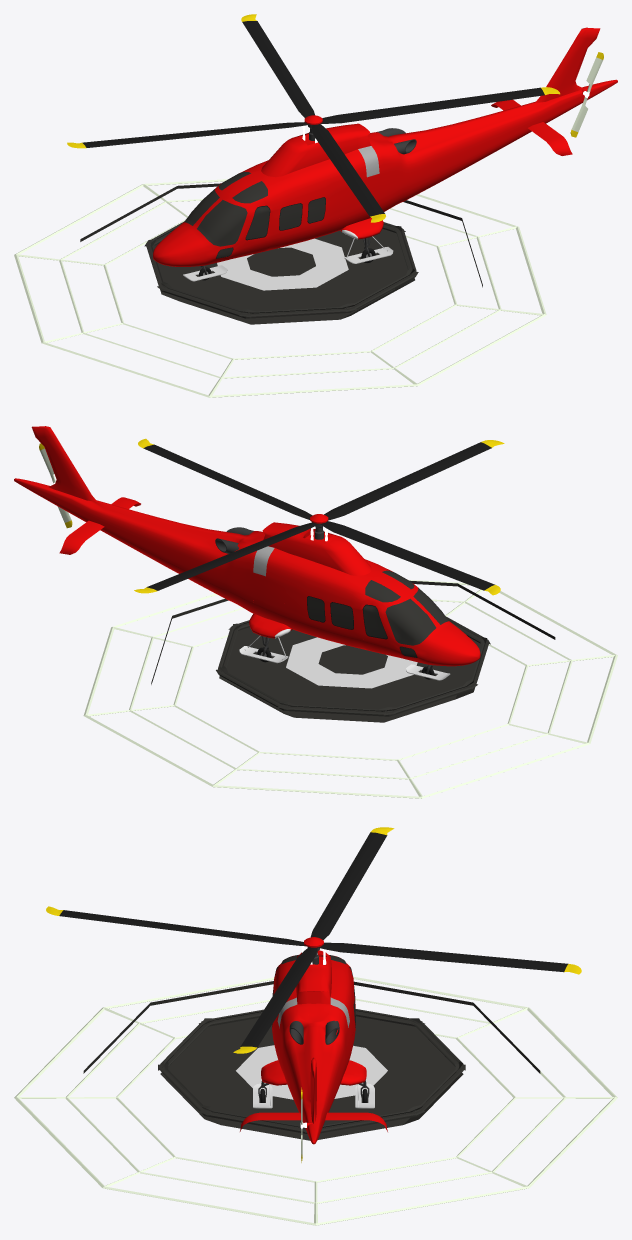
Rendered from helicopter.gltf.
The picture shows the model from 3 angles, top to bottom: view 1: azimuth 30°, elevation 25°; view 2: azimuth 150°, elevation 25°; view 3: azimuth 270°, elevation 25°; orthographic projection. The views are drawn at different scales.
Visible parts, largest first — view 1: Cube, Cylinder.005, Cylinder.006, Cylinder.003, Cube.001, Cylinder.002, Cube.004; view 2: Cube, Cylinder.005, Cylinder.006, Cylinder.003, Cube.001, Cube.004; view 3: Cylinder.005, Cube, Cylinder.006, Cylinder.003, Cube.001, Cube.004, Cube.007, Cylinder.
Boxes of the visible parts, x1,y1,x2,y2 form: Cube: [153, 27, 617, 266]; Cylinder.005: [80, 183, 482, 324]; Cylinder.006: [14, 179, 546, 397]; Cylinder.003: [67, 14, 560, 222]; Cube.001: [491, 99, 572, 155]; Cylinder.002: [570, 52, 603, 137]; Cube.004: [340, 218, 383, 239]; Cube: [14, 426, 480, 666]; Cylinder.005: [151, 580, 555, 722]; Cylinder.006: [83, 579, 617, 798]; Cylinder.003: [134, 438, 504, 595]; Cube.001: [59, 497, 140, 554]; Cube.004: [249, 613, 292, 638]; Cylinder.005: [83, 981, 540, 1140]; Cube: [272, 950, 355, 1144]; Cylinder.006: [14, 976, 617, 1225]; Cylinder.003: [46, 827, 581, 1053]; Cube.001: [240, 1112, 387, 1131]; Cube.004: [261, 1060, 366, 1085]; Cube.007: [253, 1083, 374, 1108]; Cylinder: [289, 1020, 339, 1044].
Size of what is drawn, in the model's own units: 11.59 by 3.55 by 9.62.
